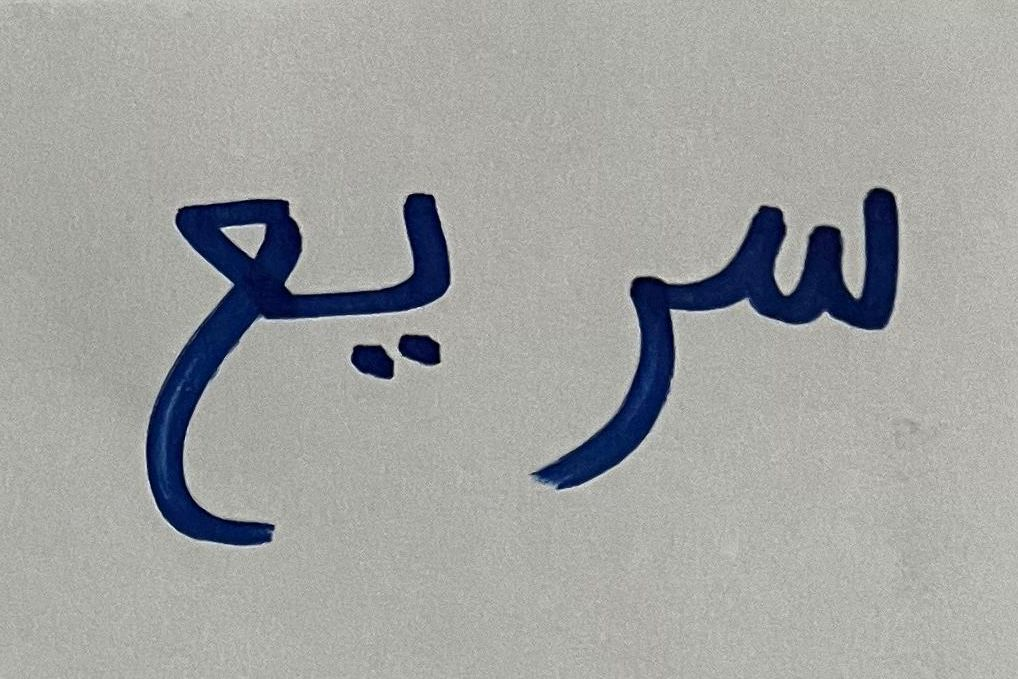ain: (59, 132, 303, 570)
reh: (484, 213, 693, 518)
seen: (705, 127, 976, 374)
yeh: (312, 140, 477, 419)
